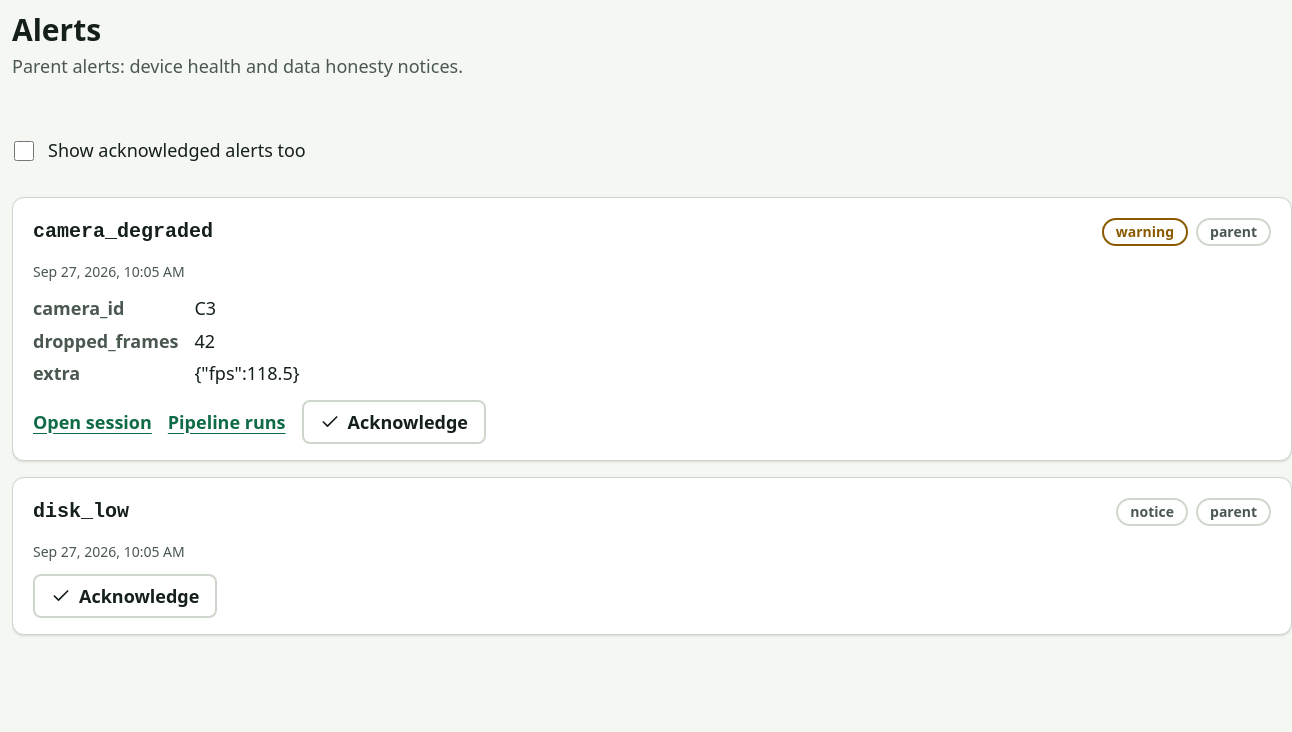
it: acknowledgement › shows a 403 routing answer verbatim
Click the button "Acknowledge" next to "Pipeline runs". click: click(394, 422)
box: [302,400,486,444]
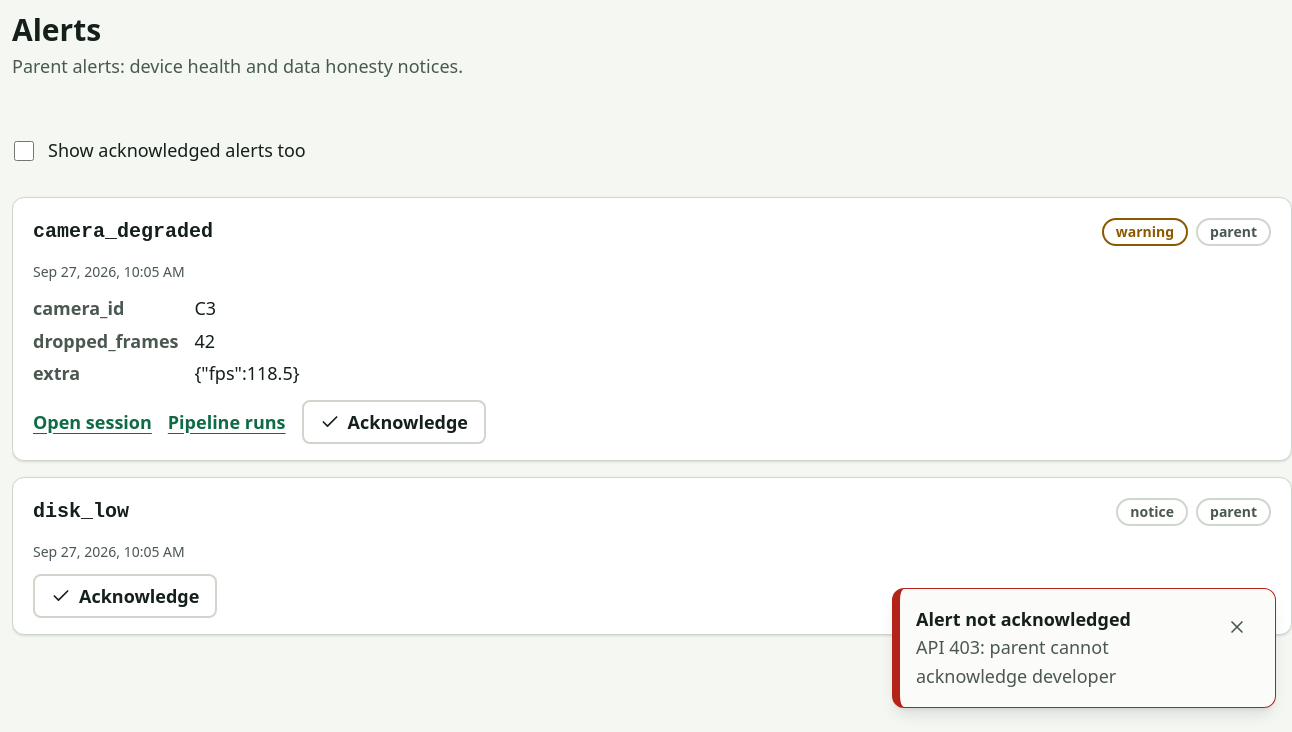
Check: the text "Alert not acknowledged" is shown, box [916,607,1131,631]
Check: the text "API 403: parent cannot acknowledge developer" is shown, box [916,635,1116,688]
